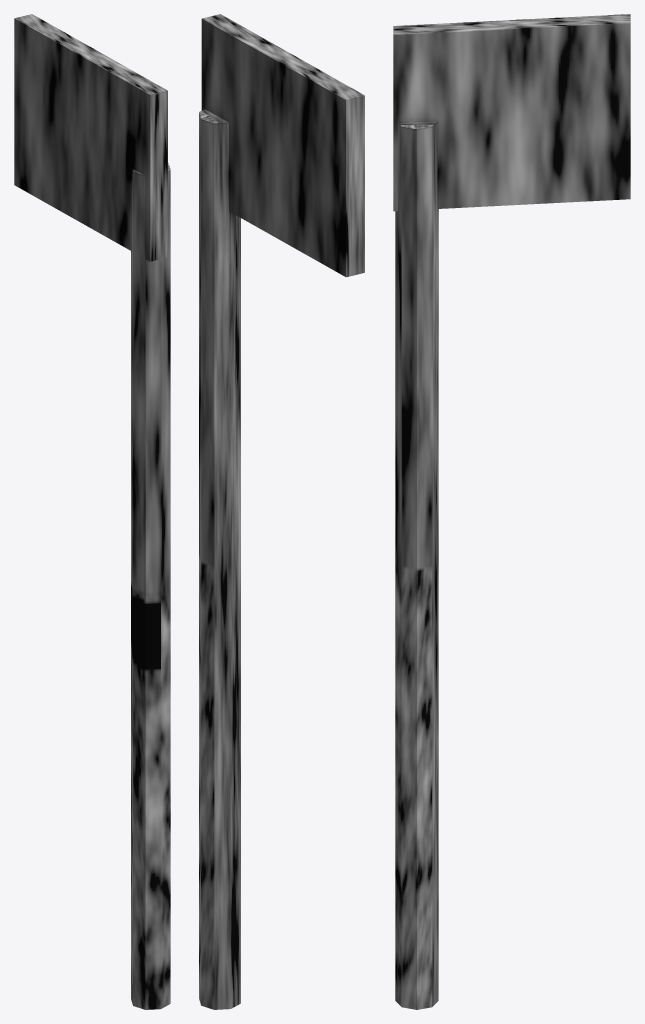
File: shovel.glb
3 views of the same model, side by side, from view 1: azimuth 30°, elevation 25°; view 2: azimuth 210°, elevation 25°; view 3: azimuth 270°, elevation 25° (orthographic). The views are drawn at different scales.
Parts seen in each view (by area): view 1: shovel; view 2: shovel; view 3: shovel.
Part boxes in pixels (x1,y1,x2,y2): shovel: [14, 14, 170, 1009]; shovel: [199, 14, 364, 1009]; shovel: [393, 14, 630, 1009].
Size of the model in its own units: 0.0597 by 0.99 by 0.22.
Materials: 1 (1 with a texture image).
